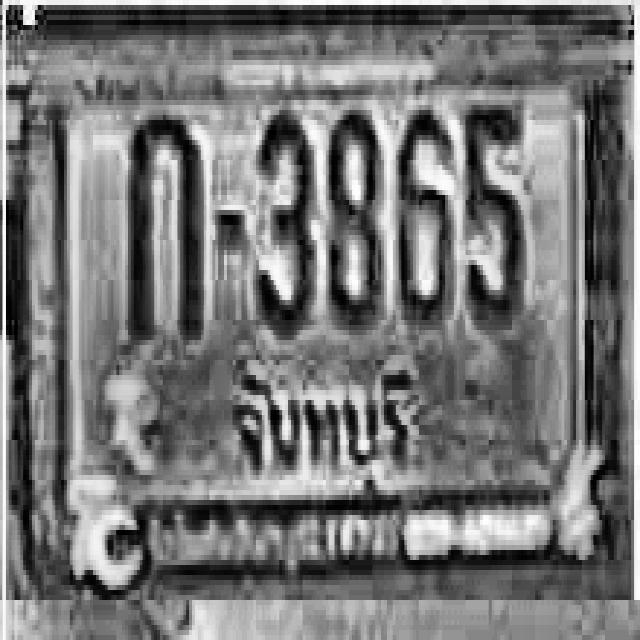license-plate: (21, 20, 640, 589)
